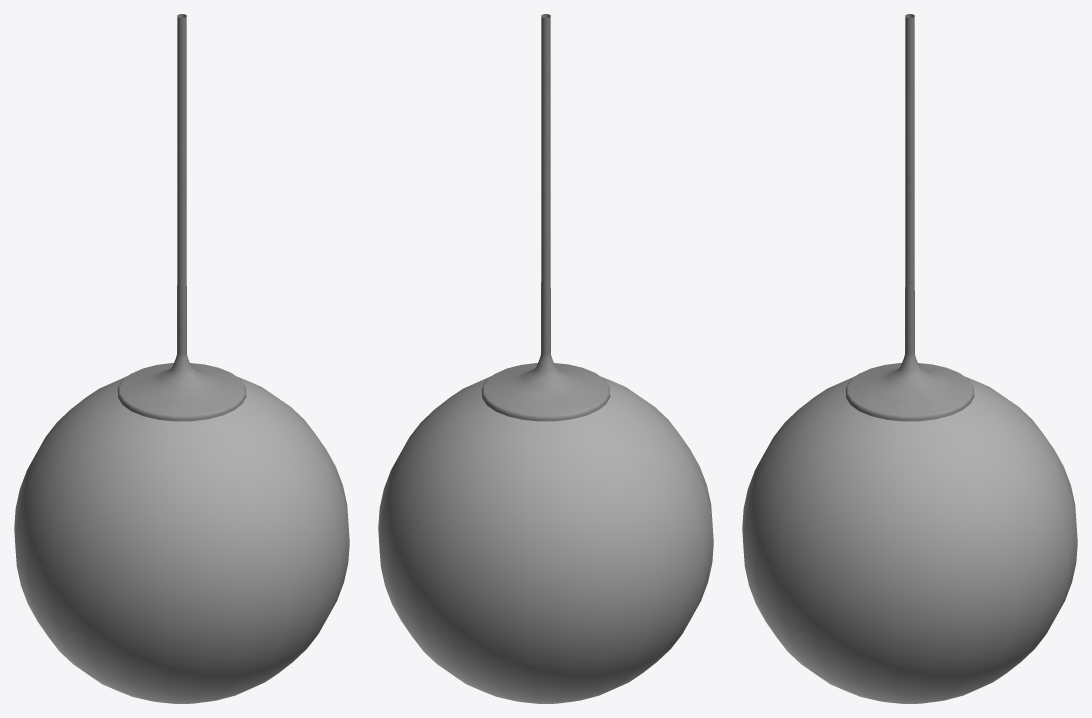
File: En_P_RoofLamp.fbx
The picture shows the model from 3 angles, left to right: view 1: azimuth 30°, elevation 25°; view 2: azimuth 150°, elevation 25°; view 3: azimuth 270°, elevation 25°; orthographic projection.
Visible parts, largest first — view 1: En_P_RoofLamp; view 2: En_P_RoofLamp; view 3: En_P_RoofLamp.
Boxes of the visible parts, box(x1,y1,x2,y2) form: En_P_RoofLamp: box(14, 14, 349, 703); En_P_RoofLamp: box(378, 14, 713, 703); En_P_RoofLamp: box(742, 14, 1077, 703).
Bounding box in the file's own units: 34.89 × 77.14 × 34.89.
